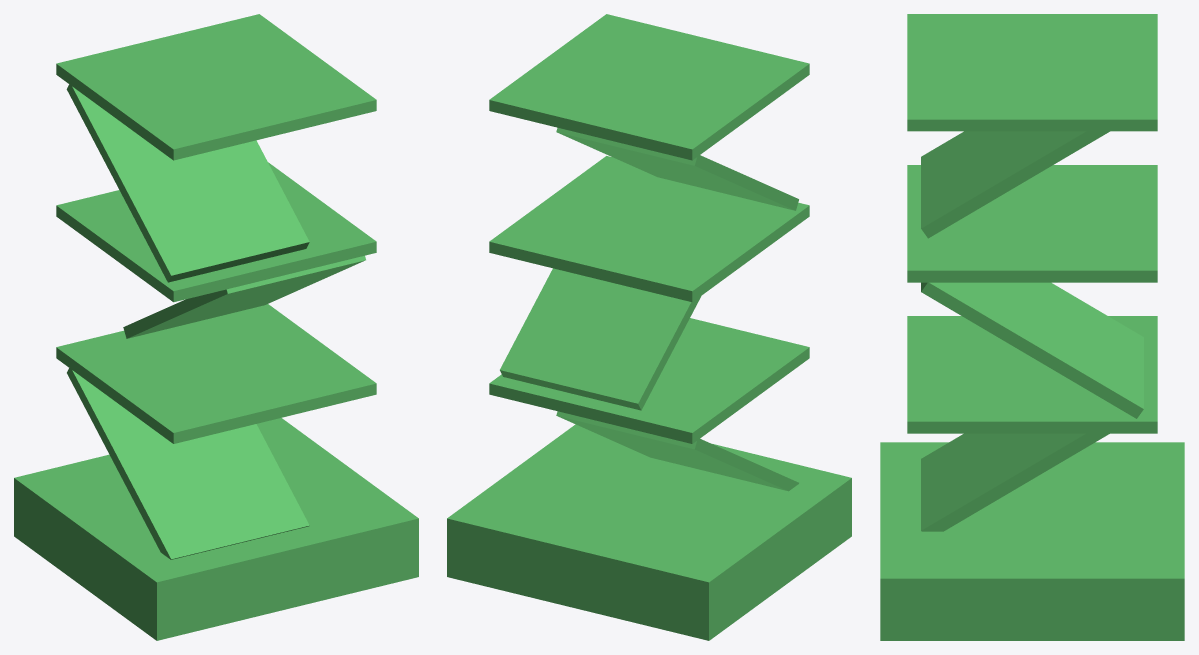
File: siege_tower_traversable_collision.glb
The picture shows the model from 3 angles, left to right: view 1: azimuth 30°, elevation 25°; view 2: azimuth 150°, elevation 25°; view 3: azimuth 270°, elevation 25°; orthographic projection. The views are drawn at different scales.
Visible parts, largest first — view 1: siege_tower_traversable-col-chassis, siege_tower_traversable-col-floor.003, siege_tower_traversable-col-floor.001, siege_tower_traversable-col-ramp-2, siege_tower_traversable-col-ramp-0, siege_tower_traversable-col-floor.002, siege_tower_traversable-col-ramp-1; view 2: siege_tower_traversable-col-chassis, siege_tower_traversable-col-floor.003, siege_tower_traversable-col-floor.002, siege_tower_traversable-col-ramp-1, siege_tower_traversable-col-floor.001, siege_tower_traversable-col-ramp-2, siege_tower_traversable-col-ramp-0; view 3: siege_tower_traversable-col-chassis, siege_tower_traversable-col-floor.003, siege_tower_traversable-col-floor.002, siege_tower_traversable-col-floor.001, siege_tower_traversable-col-ramp-1, siege_tower_traversable-col-ramp-2, siege_tower_traversable-col-ramp-0.
Part boxes in pixels (<box>): siege_tower_traversable-col-chassis: <box>14,418,418,640</box>; siege_tower_traversable-col-floor.003: <box>56,14,376,160</box>; siege_tower_traversable-col-floor.001: <box>56,304,376,443</box>; siege_tower_traversable-col-ramp-2: <box>66,84,309,282</box>; siege_tower_traversable-col-ramp-0: <box>67,368,309,559</box>; siege_tower_traversable-col-floor.002: <box>56,162,376,302</box>; siege_tower_traversable-col-ramp-1: <box>123,255,365,338</box>; siege_tower_traversable-col-chassis: <box>447,424,851,640</box>; siege_tower_traversable-col-floor.003: <box>489,14,809,160</box>; siege_tower_traversable-col-floor.002: <box>489,156,809,302</box>; siege_tower_traversable-col-ramp-1: <box>500,268,701,410</box>; siege_tower_traversable-col-floor.001: <box>489,318,809,443</box>; siege_tower_traversable-col-ramp-2: <box>556,127,798,210</box>; siege_tower_traversable-col-ramp-0: <box>556,411,798,491</box>; siege_tower_traversable-col-chassis: <box>880,442,1184,640</box>; siege_tower_traversable-col-floor.003: <box>907,14,1157,131</box>; siege_tower_traversable-col-floor.002: <box>907,165,1157,282</box>; siege_tower_traversable-col-floor.001: <box>907,316,1157,433</box>; siege_tower_traversable-col-ramp-1: <box>921,282,1143,418</box>; siege_tower_traversable-col-ramp-2: <box>921,131,1109,238</box>; siege_tower_traversable-col-ramp-0: <box>921,433,1109,531</box>.
Bounding box in the file's own units: 4.45 × 7.7 × 4.2.
